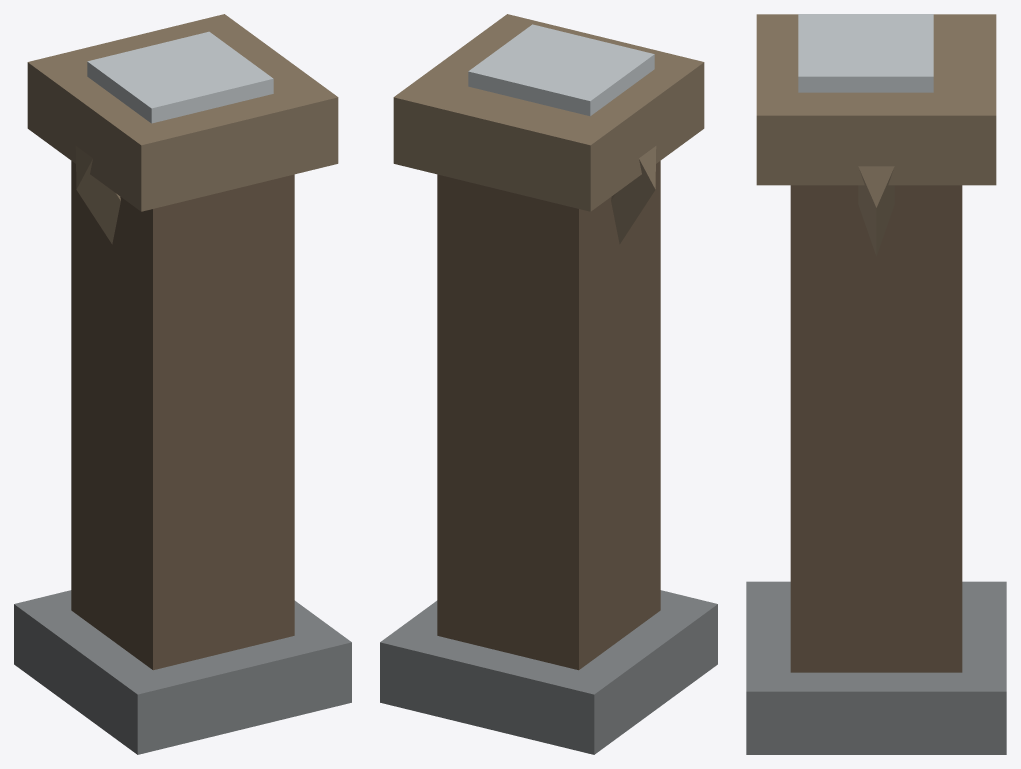
Rendered from cloister_post.glb.
3 views of the same model, side by side, from view 1: azimuth 30°, elevation 25°; view 2: azimuth 150°, elevation 25°; view 3: azimuth 270°, elevation 25° (orthographic). The views are drawn at different scales.
Parts seen in each view (by area): view 1: cloister_post; view 2: cloister_post; view 3: cloister_post.
Part boxes in pixels (x1,y1,x2,y2): cloister_post: (14,14,351,754); cloister_post: (380,14,717,754); cloister_post: (746,14,1006,754).
Bounding box in the file's own units: 0.96 × 2.65 × 0.96.
